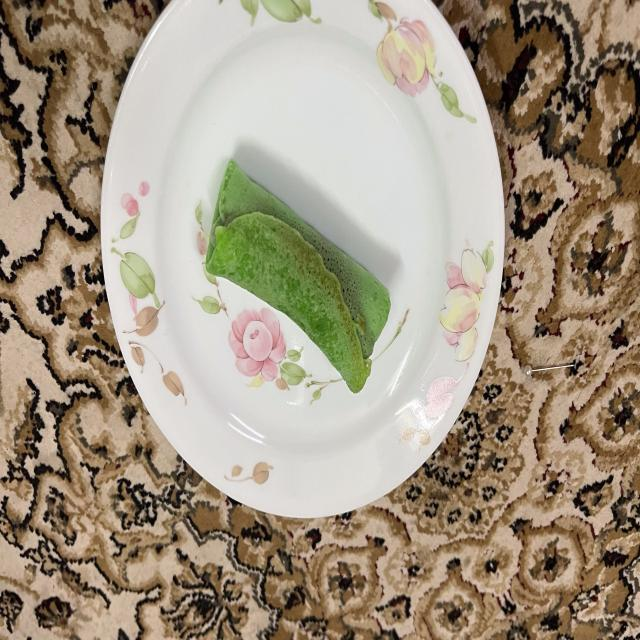Kuih-Ketayap: (206, 160, 390, 393)
